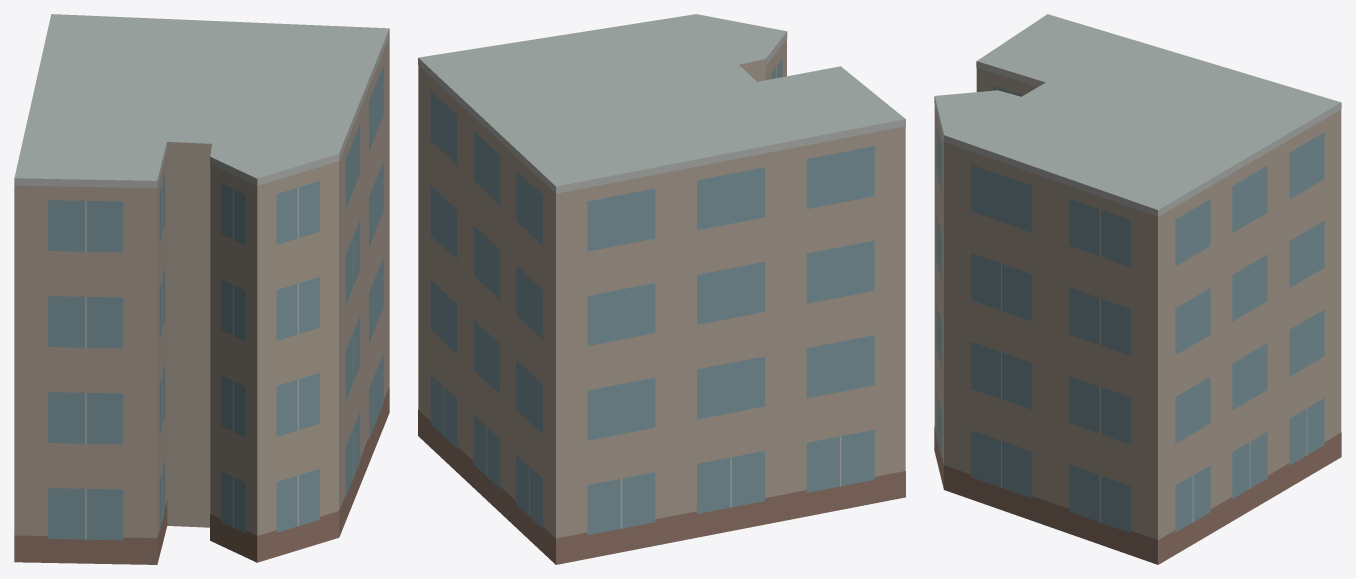
The model's file is survey-upis-32697585.glb.
3 views of the same model, side by side, from view 1: azimuth 30°, elevation 25°; view 2: azimuth 150°, elevation 25°; view 3: azimuth 270°, elevation 25° (orthographic). The views are drawn at different scales.
Parts seen in each view (by area): view 1: survey-upis-32697585.tmp; view 2: survey-upis-32697585.tmp; view 3: survey-upis-32697585.tmp.
Boxes of the visible parts, x1,y1,x2,y2 form: survey-upis-32697585.tmp: [14, 14, 389, 564]; survey-upis-32697585.tmp: [418, 14, 905, 564]; survey-upis-32697585.tmp: [934, 14, 1341, 564].
Bounding box in the file's own units: 15.18 × 12.79 × 13.31.
